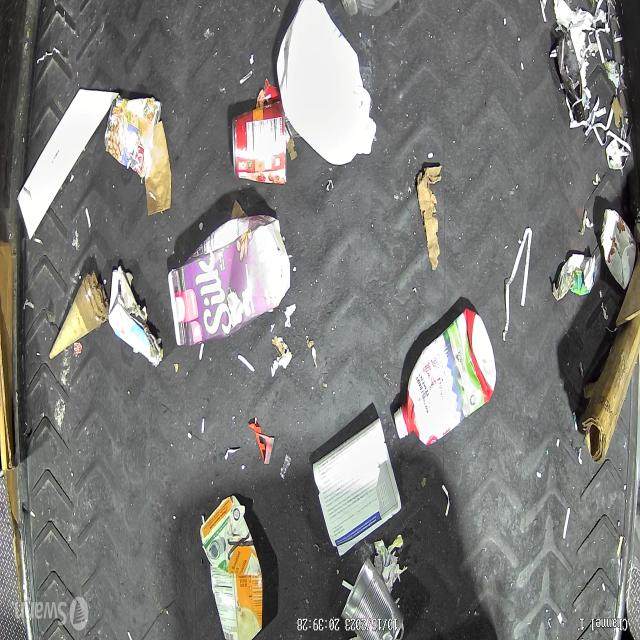can: (234, 107, 292, 197), (340, 573, 402, 640)
milk_jug: (274, 2, 382, 168)
